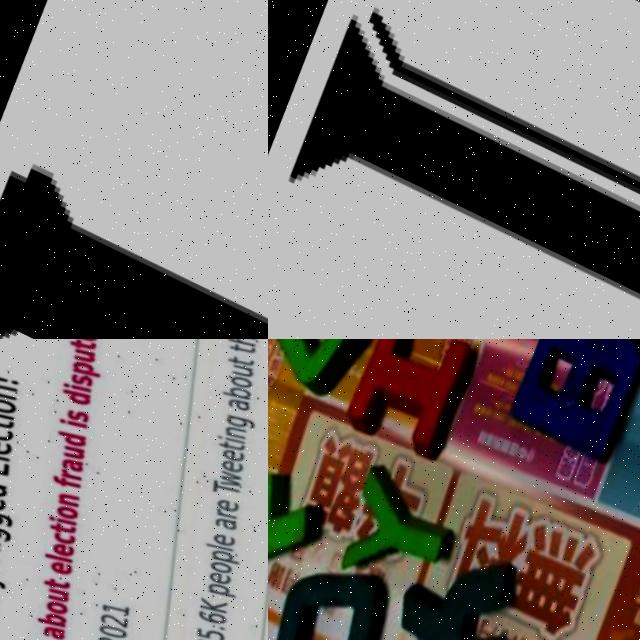0: (81, 613, 120, 640)
1: (87, 592, 123, 620)
2: (83, 602, 123, 632), (79, 625, 119, 640)
5: (179, 615, 217, 640)
6: (181, 599, 221, 630)
8: (178, 628, 215, 640)
B: (495, 339, 640, 462)
C: (268, 339, 383, 401)
D: (268, 540, 399, 640)
F: (268, 442, 341, 601)
I: (315, 339, 478, 481)
J: (268, 0, 640, 339)
K: (348, 517, 536, 640)
L: (0, 0, 268, 339)
Y: (315, 457, 468, 611)
